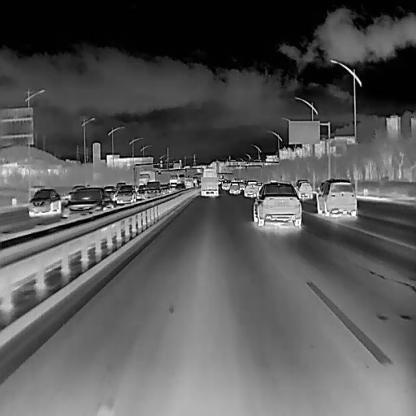car: (251, 180, 301, 226), (316, 177, 358, 217), (63, 184, 106, 220), (26, 186, 61, 215), (198, 167, 219, 197), (111, 184, 137, 207), (242, 180, 260, 197), (144, 180, 160, 199), (298, 180, 313, 199), (138, 169, 155, 183), (136, 181, 147, 199), (100, 184, 114, 197), (228, 181, 241, 194), (173, 182, 186, 193), (183, 176, 194, 188), (168, 173, 178, 184), (161, 184, 170, 194), (220, 180, 229, 190)
